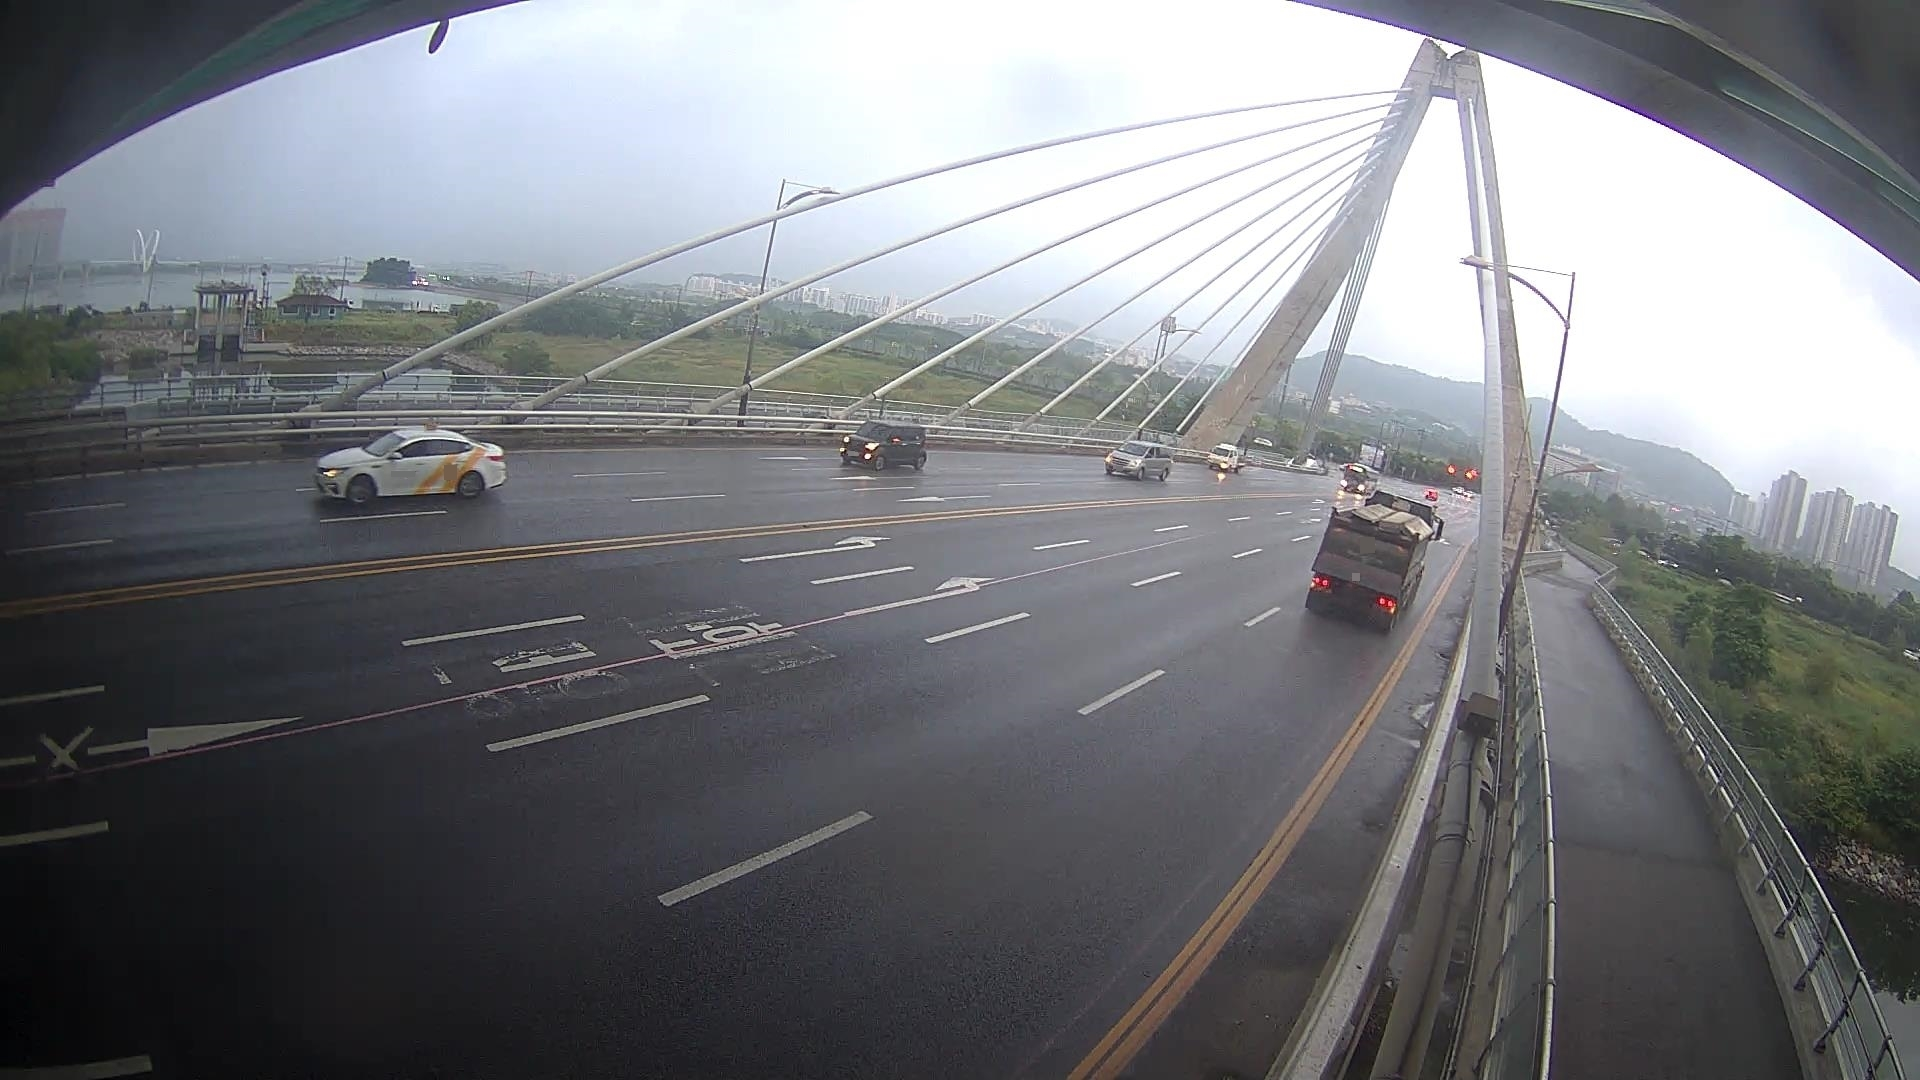정상차량: (1304, 489, 1445, 634)
